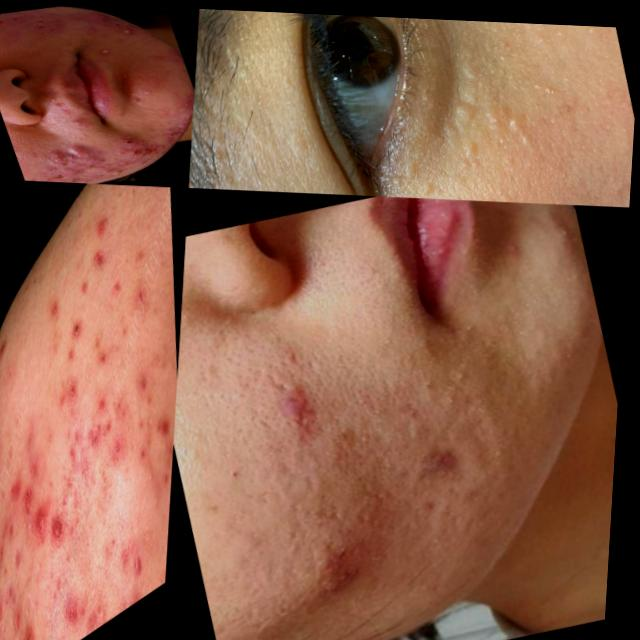8: (66, 377, 134, 521), (34, 490, 59, 555), (67, 583, 93, 640), (132, 268, 154, 323), (56, 499, 74, 553), (0, 576, 15, 640), (25, 472, 43, 524), (90, 236, 110, 278), (66, 371, 85, 412), (96, 207, 114, 242), (72, 310, 87, 344), (27, 619, 48, 640), (145, 72, 165, 84), (54, 101, 70, 110), (139, 87, 154, 96)
9: (117, 24, 136, 35), (85, 27, 103, 37), (98, 45, 114, 55)
blackheads: (416, 23, 517, 166), (309, 523, 390, 608), (481, 85, 555, 173), (279, 377, 350, 462), (429, 433, 485, 503), (397, 148, 464, 196), (77, 151, 147, 179), (116, 129, 165, 161), (155, 103, 193, 142), (74, 143, 106, 168), (80, 10, 115, 30), (47, 149, 78, 169), (62, 161, 87, 176)
whiteheads: (70, 117, 86, 129), (46, 95, 63, 104)
